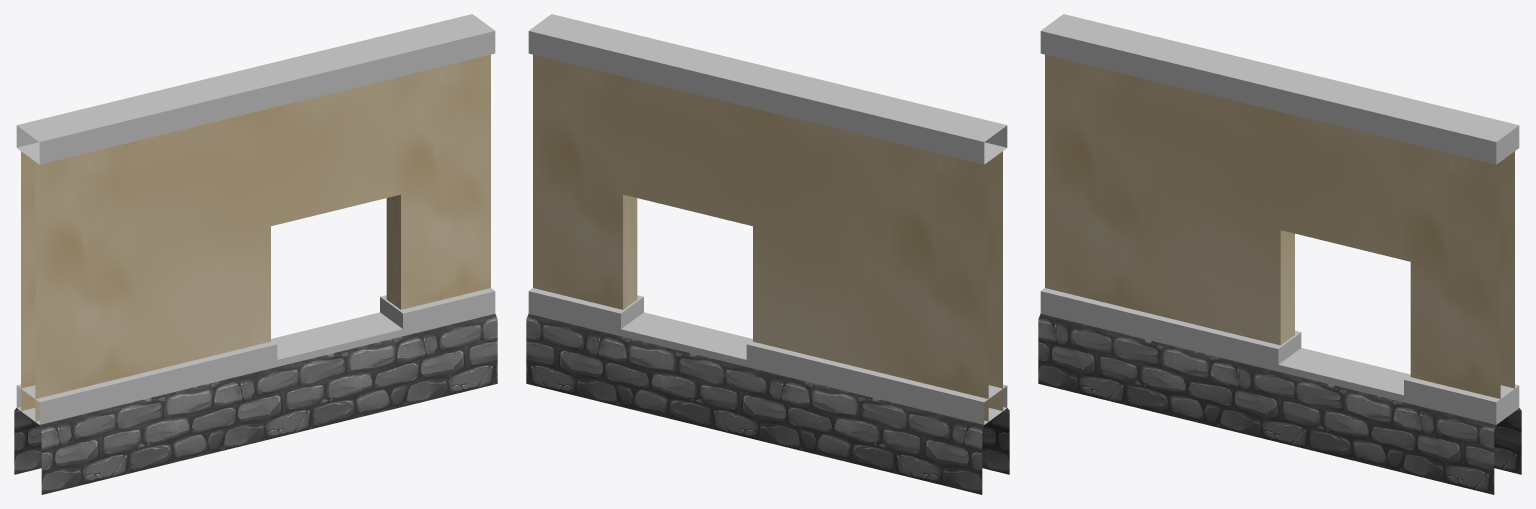
The model's file is MOD_Bank_wall.fbx.
The picture shows the model from 3 angles, left to right: view 1: azimuth 30°, elevation 25°; view 2: azimuth 150°, elevation 25°; view 3: azimuth 330°, elevation 25°; orthographic projection.
Visible parts, largest first — view 1: Bank_wall; view 2: Bank_wall; view 3: Bank_wall.
Part boxes in pixels (left/top/right/bottom): Bank_wall: left=14, top=14, right=497, bottom=494; Bank_wall: left=526, top=14, right=1009, bottom=494; Bank_wall: left=1038, top=14, right=1521, bottom=494.
Bounding box in the file's own units: 217 × 22.62 × 159.
